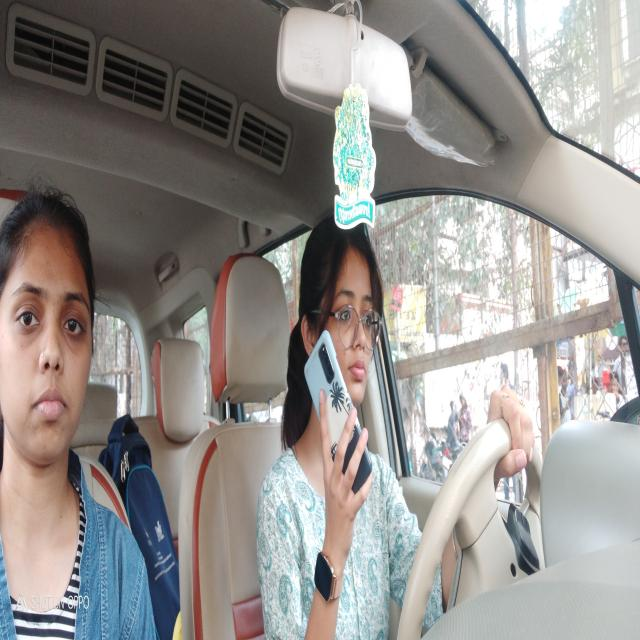mobile: (302, 325, 372, 504)
person: (0, 168, 111, 491), (297, 193, 393, 442)
